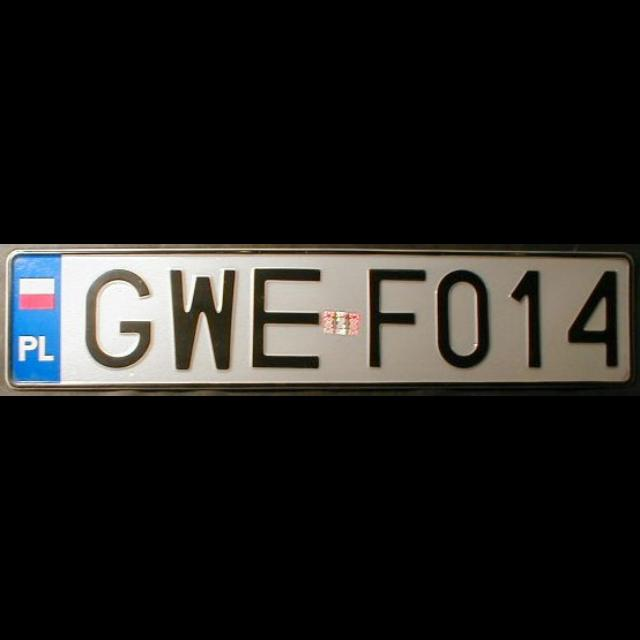pl_license_plate: (9, 251, 633, 389)
